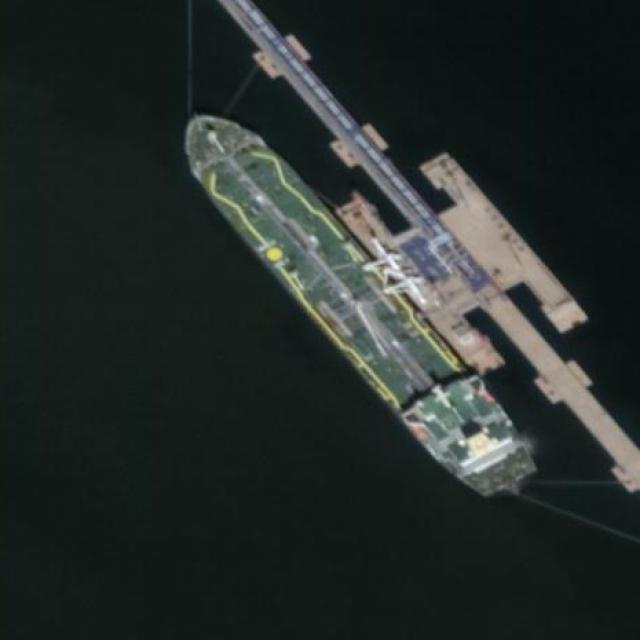Oil Tanker: (164, 92, 547, 514)
